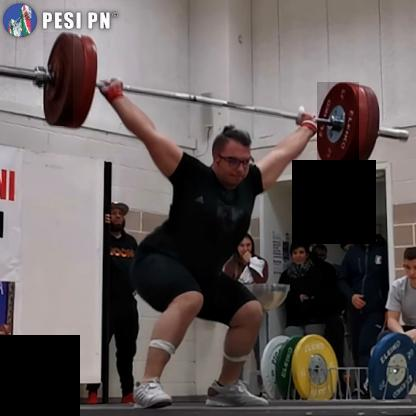barbell: (319, 83, 361, 168), (44, 33, 74, 127)
